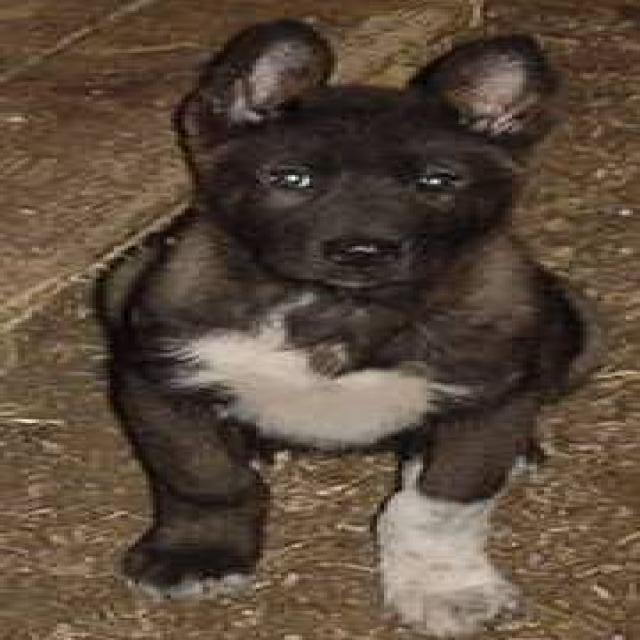dog: (92, 16, 598, 638)
